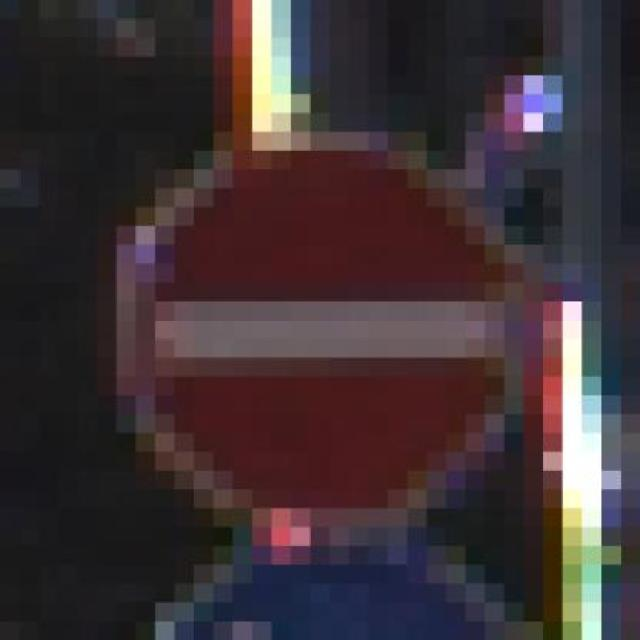B2: (128, 139, 520, 527)
